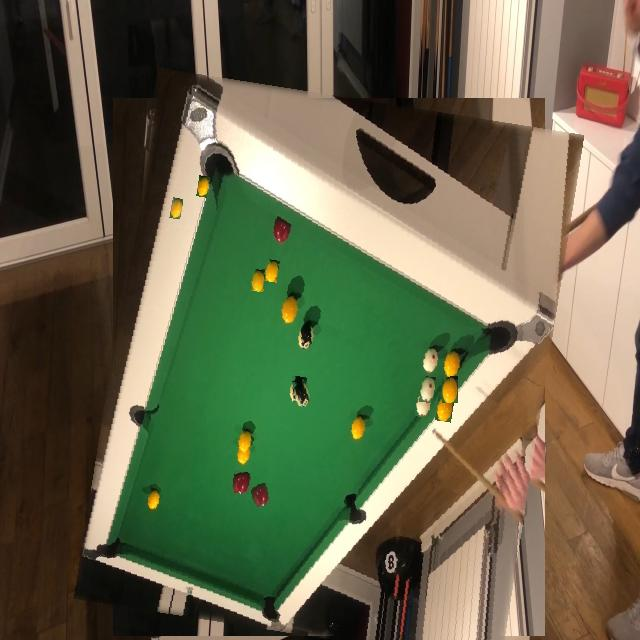Ball: (293, 380, 310, 408), (251, 483, 270, 507), (420, 376, 436, 403), (442, 376, 458, 403), (274, 404, 289, 432), (360, 300, 375, 324), (251, 270, 264, 292), (170, 198, 183, 219), (251, 258, 265, 275)
Billiard table: (93, 82, 564, 640)
